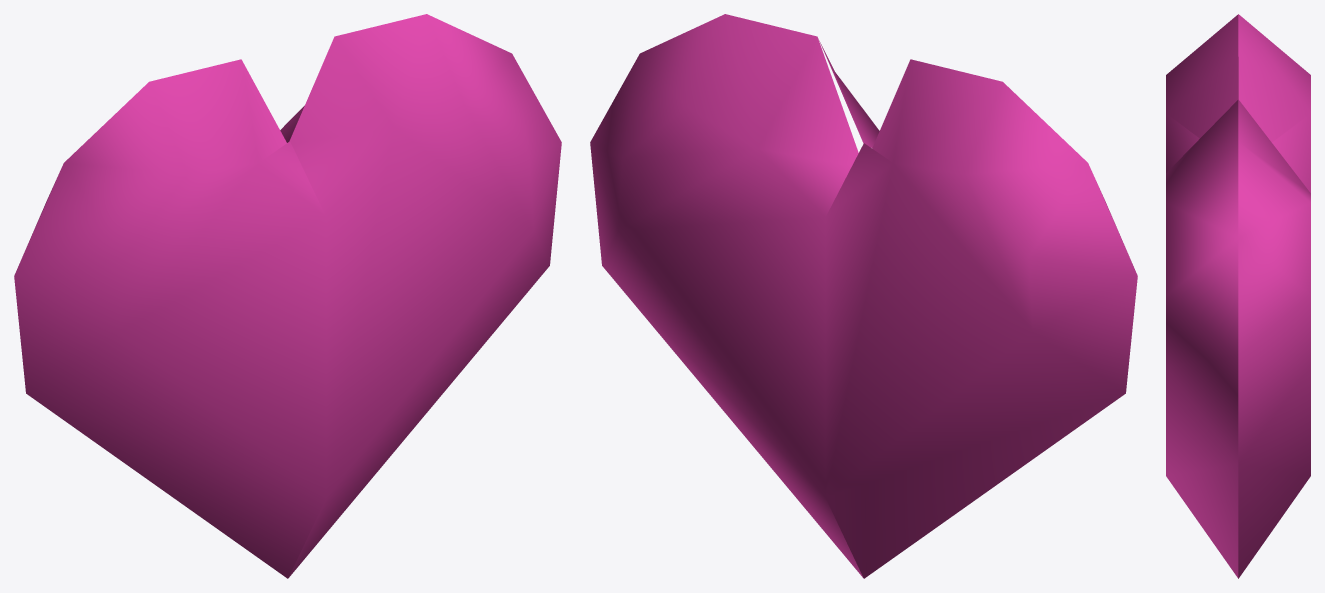
Rendered from corazon.gltf.
3 views of the same model, side by side, from view 1: azimuth 30°, elevation 25°; view 2: azimuth 150°, elevation 25°; view 3: azimuth 270°, elevation 25° (orthographic). The views are drawn at different scales.
Parts seen in each view (by area): view 1: Mesh_0.001; view 2: Mesh_0.001; view 3: Mesh_0.001.
Part boxes in pixels (x1,y1,x2,y2): Mesh_0.001: [14, 14, 561, 578]; Mesh_0.001: [590, 14, 1137, 578]; Mesh_0.001: [1166, 14, 1310, 578].
Bounding box in the file's own units: 2.89 × 2.67 × 0.7.
